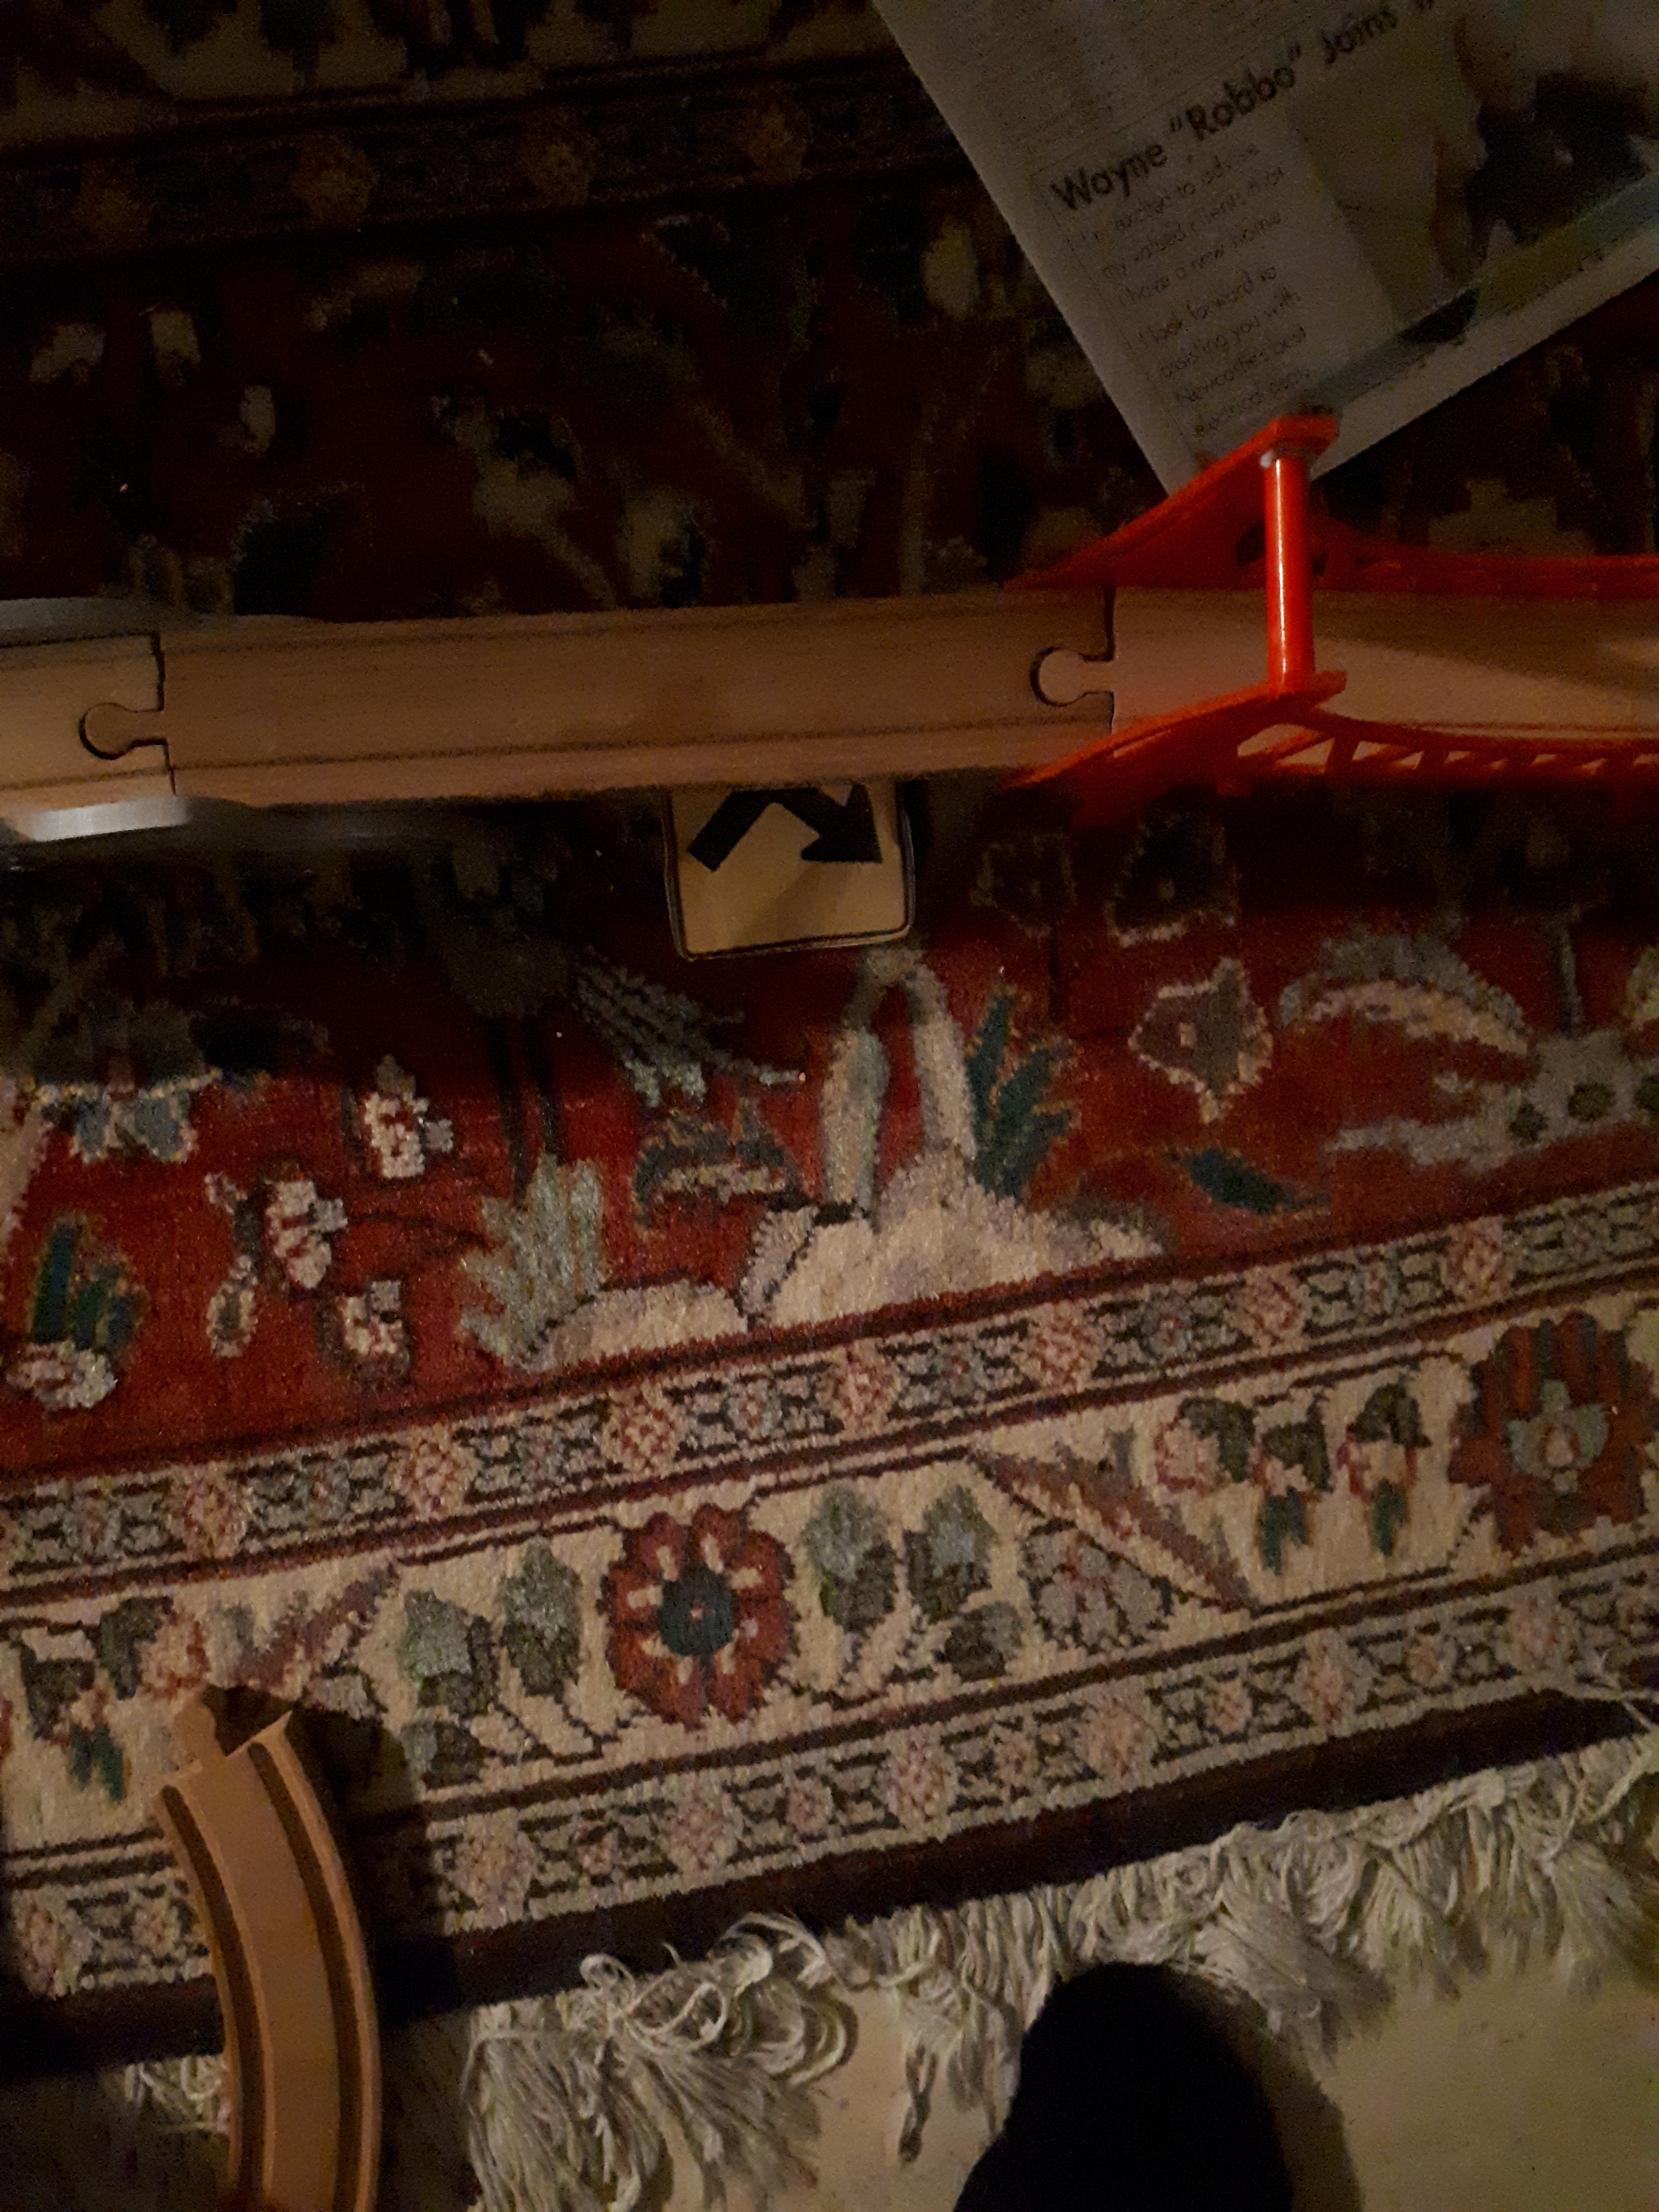right: (629, 643, 941, 1022), (714, 775, 917, 954)
